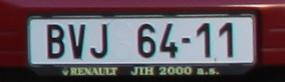-: (182, 38, 191, 44)
1: (219, 22, 234, 58), (197, 24, 210, 58)
4: (161, 23, 178, 58)
6: (137, 24, 156, 57)
B: (47, 25, 64, 59)
J: (91, 25, 107, 59)
V: (68, 24, 86, 60)
